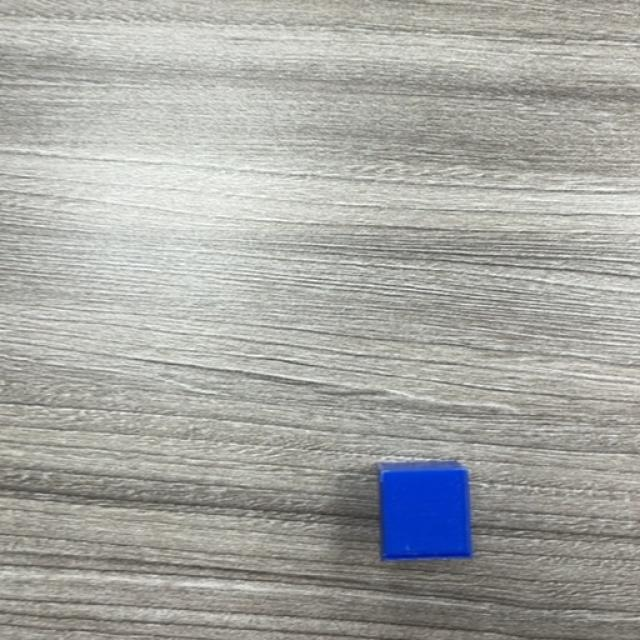Azul: (378, 462, 475, 564)
